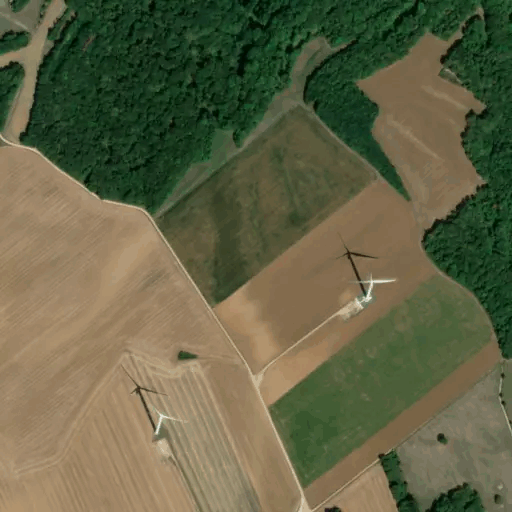wt: (123, 360, 185, 443), (336, 231, 394, 312)
